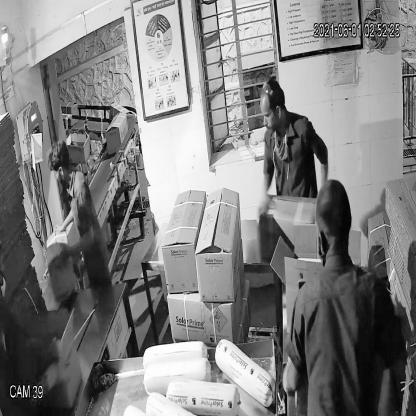no_goggles: (258, 104, 288, 125)
